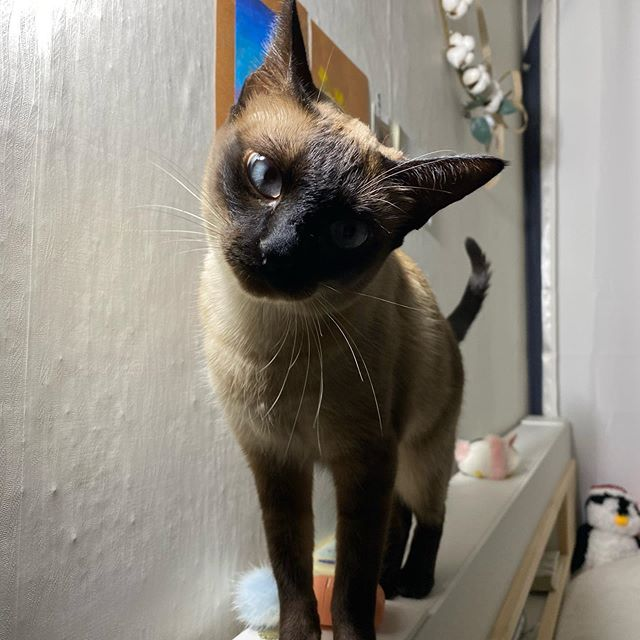cat: (196, 2, 508, 306)
